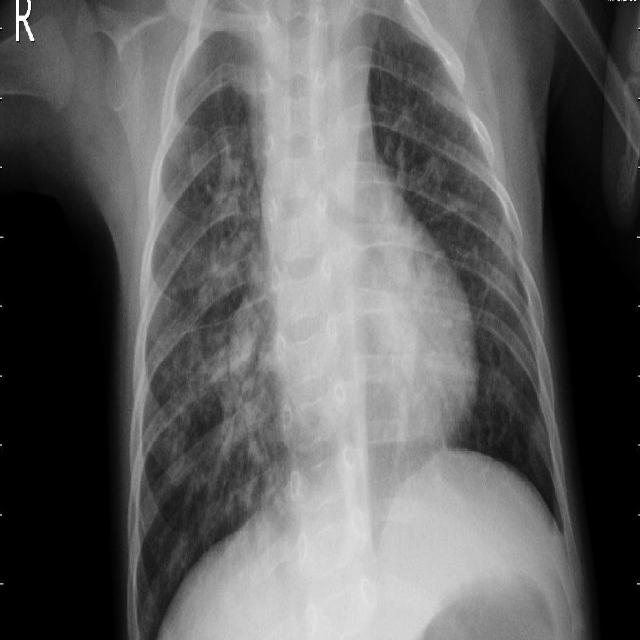low-pneumonia: (195, 129, 286, 492), (471, 228, 537, 417)
